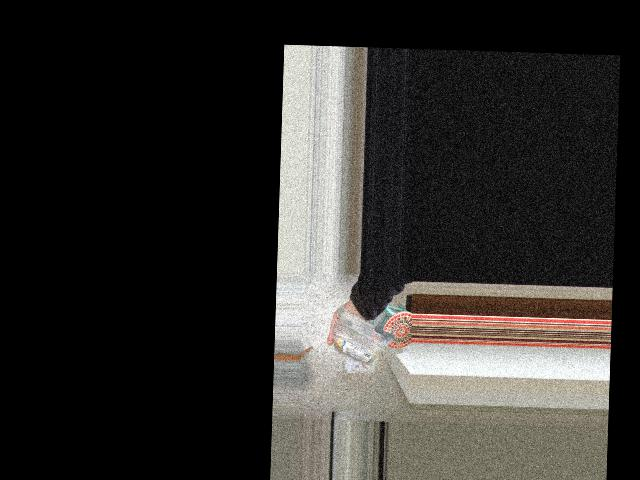cheese: (344, 315, 373, 380)
